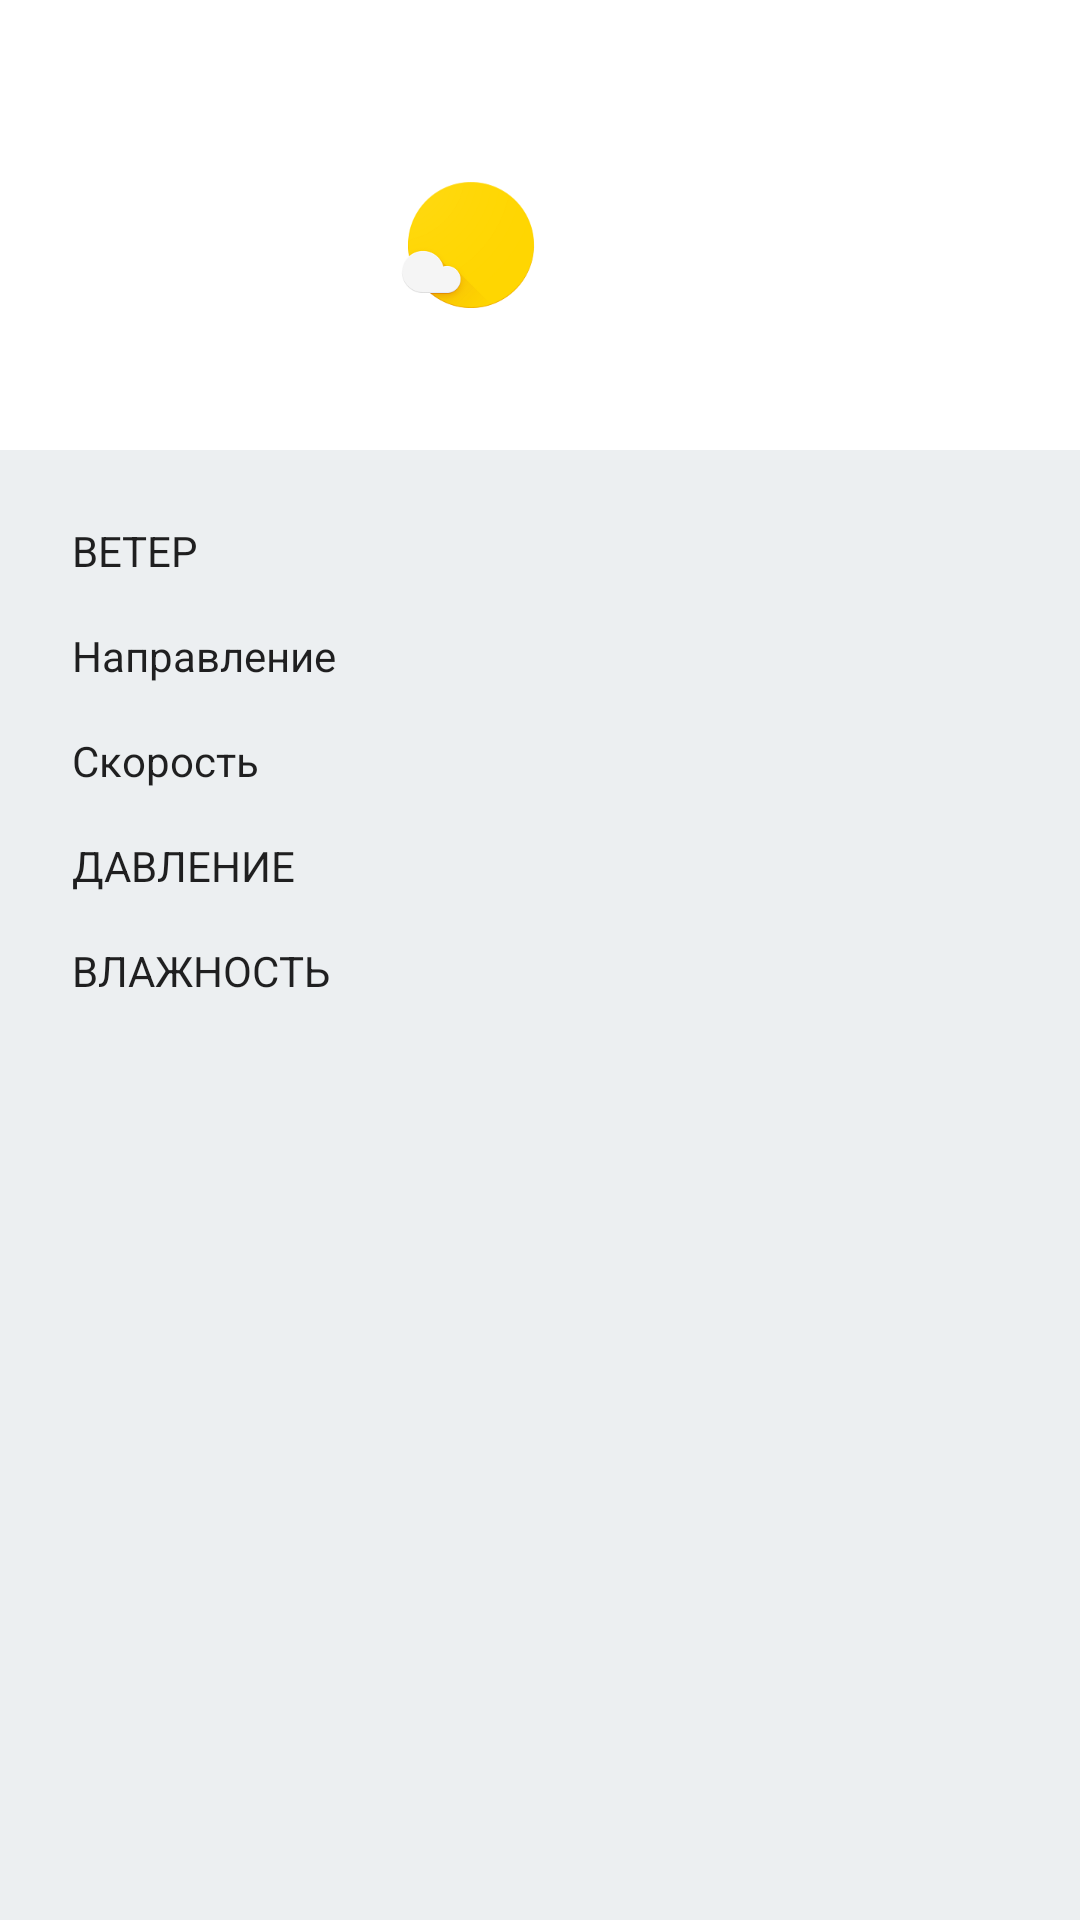

Where to tap for icons on this 1080 x 1920 app screen, as (x,y):
partly cloudy: (471,245)
